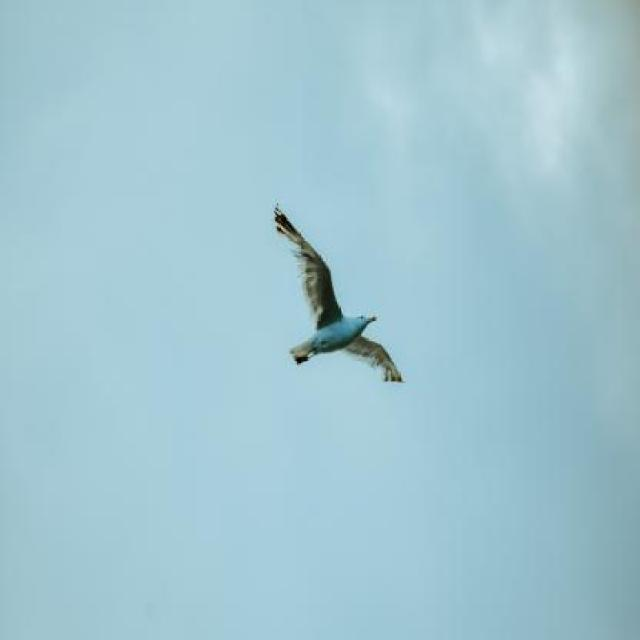bird: (278, 206, 402, 386)
